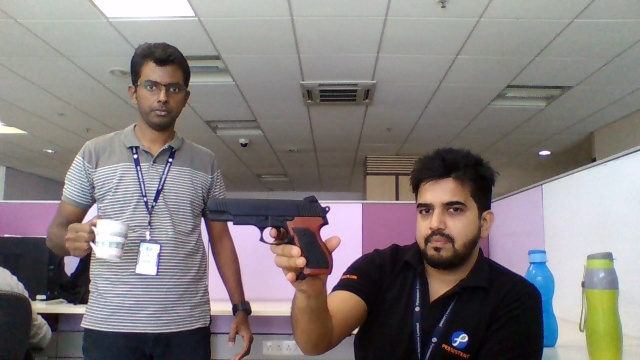gun: (206, 194, 327, 242)
